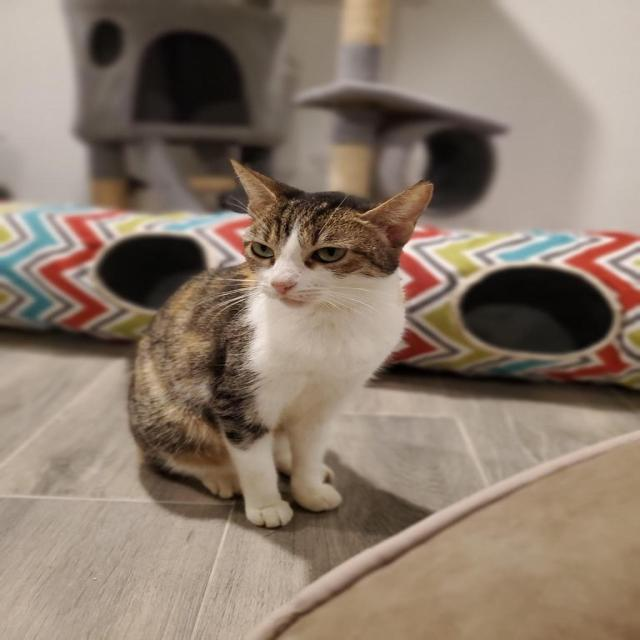calico_cat: (218, 154, 438, 320)
